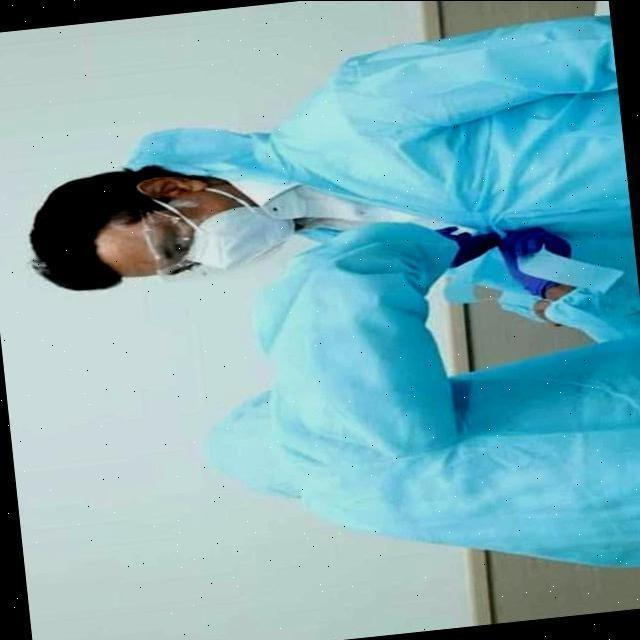apron: (496, 232, 580, 292), (431, 223, 488, 278)
gloves: (187, 410, 306, 502)
mask: (183, 213, 301, 267)
no_gloves: (18, 170, 132, 306)
